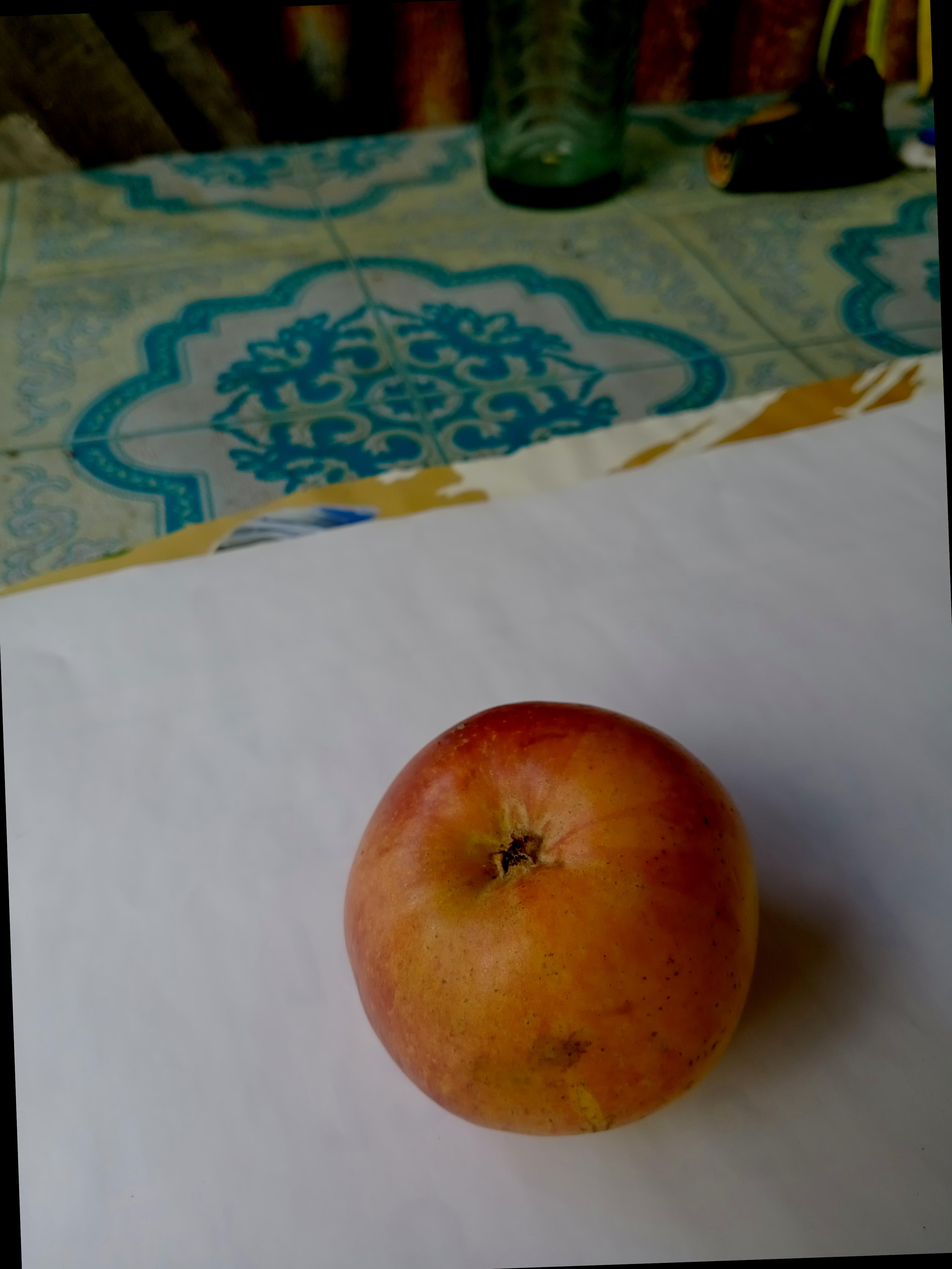Apple Ripe: (280, 705, 767, 1175)
